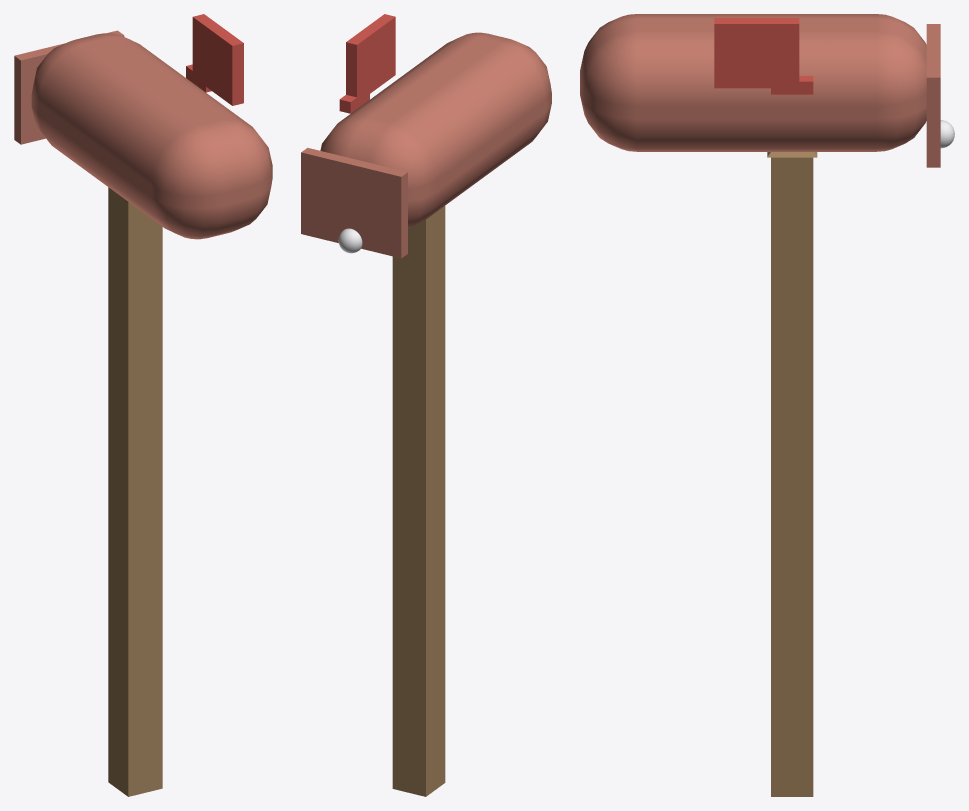
The model's file is mailbox.glb.
3 renders of one model, left to right at view 1: azimuth 30°, elevation 25°; view 2: azimuth 150°, elevation 25°; view 3: azimuth 270°, elevation 25°, orthographic. The views are drawn at different scales.
Visible parts, largest first — view 1: post, box_body, flag, door; view 2: post, box_body, door, flag, handle; view 3: box_body, post, flag, door, flag_arm.
Boxes of the visible parts, x1,y1,x2,y2 form: post: [108, 187, 162, 796]; box_body: [31, 33, 272, 239]; flag: [192, 14, 243, 105]; door: [14, 30, 124, 144]; post: [392, 206, 445, 796]; box_body: [320, 32, 551, 228]; door: [301, 147, 407, 258]; flag: [346, 14, 395, 102]; handle: [338, 228, 362, 253]; box_body: [580, 14, 926, 151]; post: [771, 157, 813, 796]; flag: [714, 18, 799, 88]; door: [926, 24, 940, 167]; flag_arm: [771, 76, 813, 94].
Bounding box in the file's own units: 0.225 × 1.25 × 0.53.
